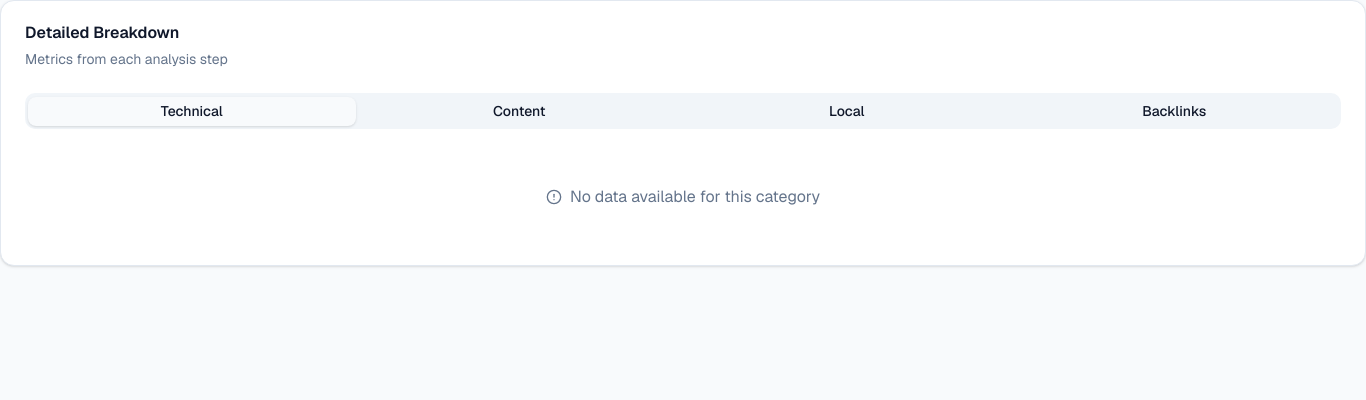
it: CategoryBreakdown › tab navigation › switches to backlinks tab when clicked
Click the tab "Backlinks" at coordinates (1174, 111), box 1010,96 -> 1338,126
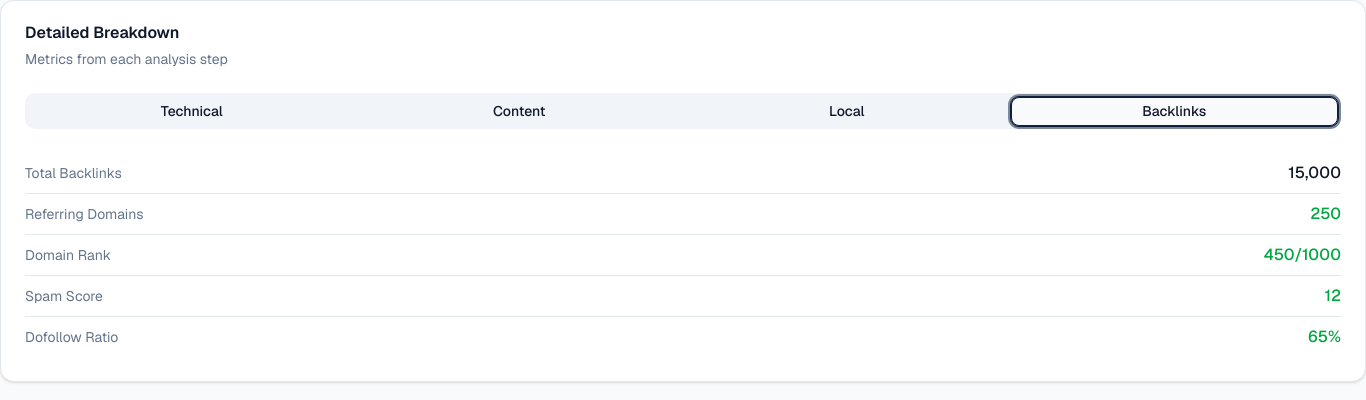
Check: the text "Total Backlinks" is shown, box 25,163 -> 122,183
